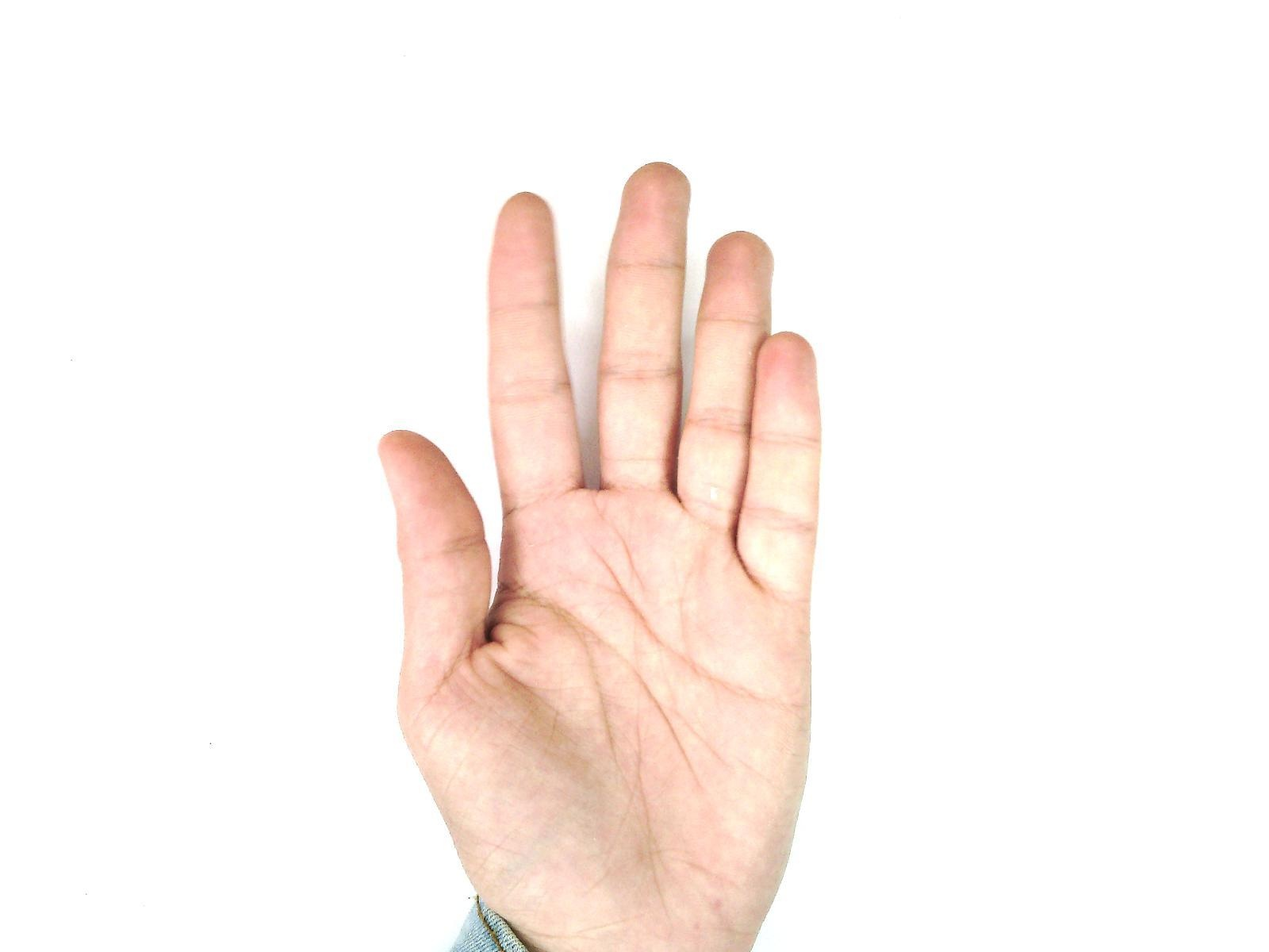open_palm: (375, 161, 826, 951)
